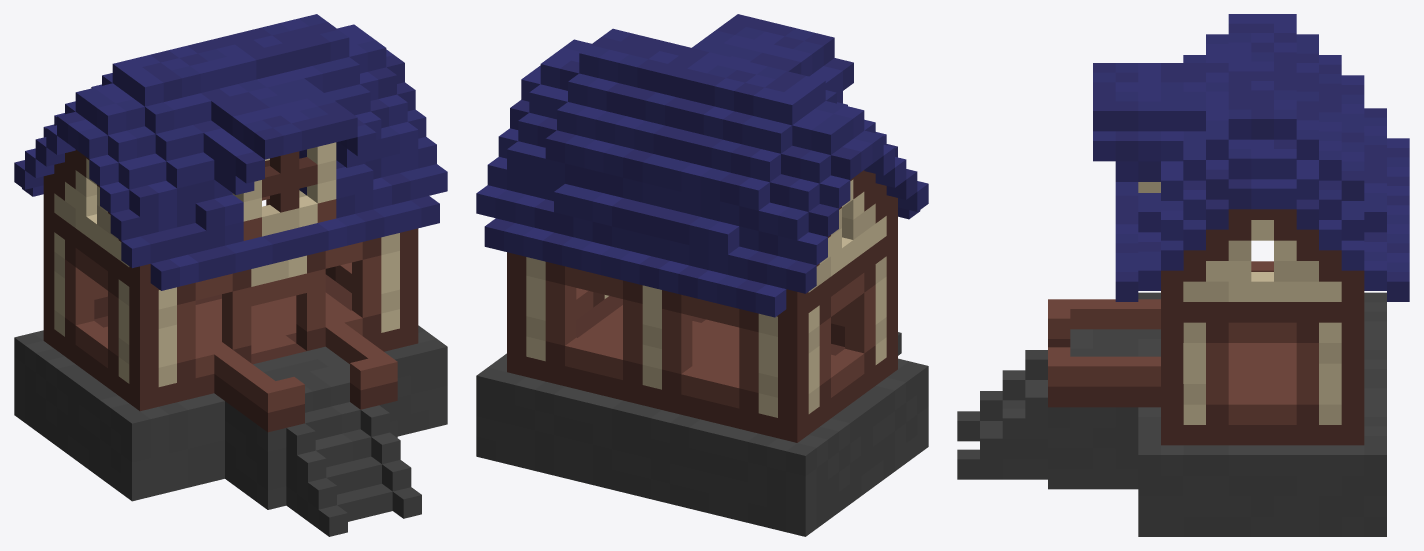
File: house_1.obj
3 renders of one model, left to right at view 1: azimuth 30°, elevation 25°; view 2: azimuth 150°, elevation 25°; view 3: azimuth 270°, elevation 25°, orthographic. The views are drawn at different scales.
Size of the model in its own units: 1.7 by 1.9 by 2.
Materials: 1 (1 with a texture image).
